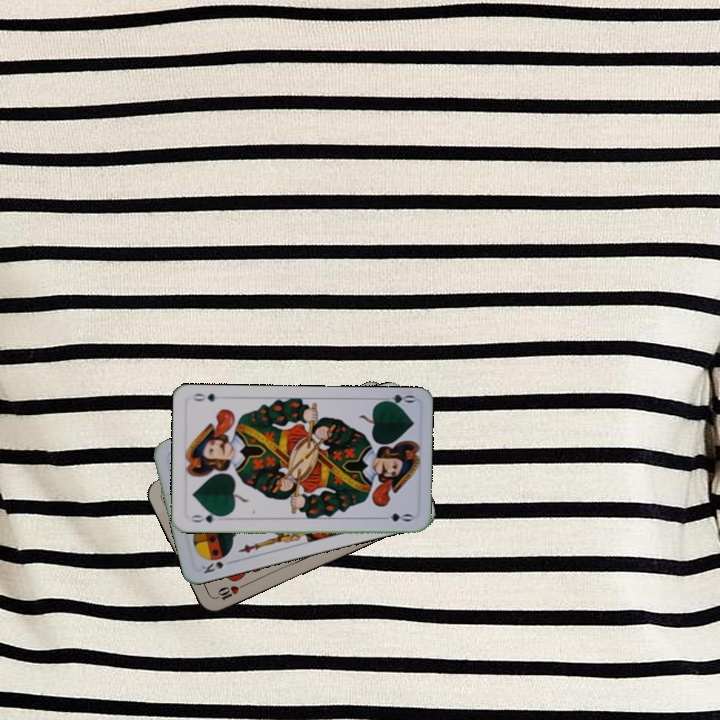GO: (376, 390, 417, 410), (186, 509, 226, 525)
H10: (211, 580, 249, 603)
SK: (197, 556, 237, 576)
